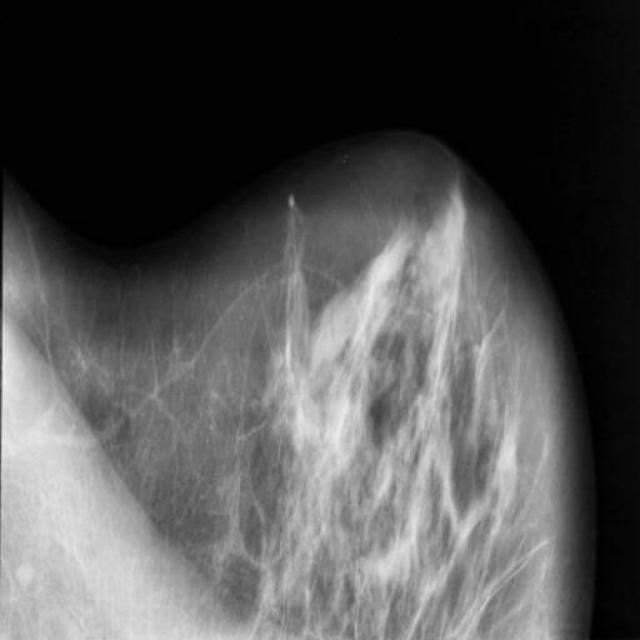cancer: (267, 228, 309, 323)
